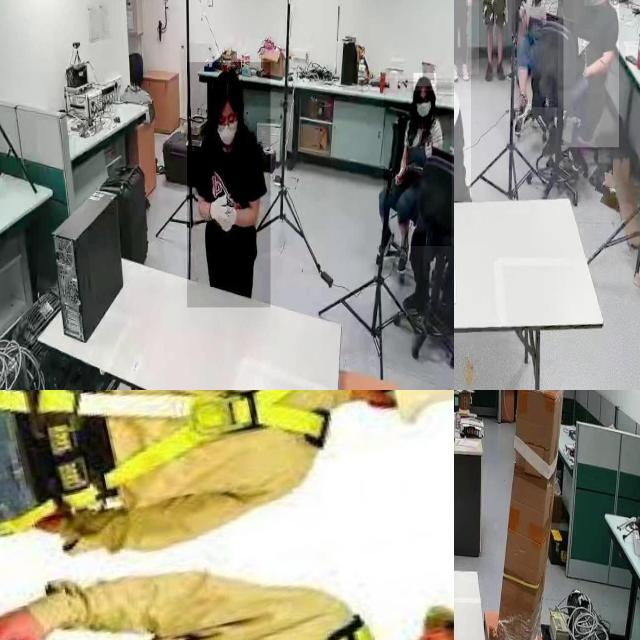Harness: (0, 390, 376, 553), (11, 527, 425, 640)
face_mask: (187, 62, 271, 308), (216, 100, 243, 148), (412, 86, 436, 129)
glasses: (215, 119, 237, 134)
hand_glove: (208, 185, 236, 241)
hand_noglove: (466, 0, 473, 6)
head_nohelmet: (214, 65, 242, 110), (414, 72, 436, 90)
person: (384, 78, 452, 247), (563, 0, 619, 148), (515, 0, 558, 108), (472, 0, 513, 73), (454, 0, 479, 75)
shoes: (395, 238, 411, 276), (459, 59, 471, 83), (496, 59, 506, 83), (484, 62, 494, 83), (454, 62, 459, 83)
